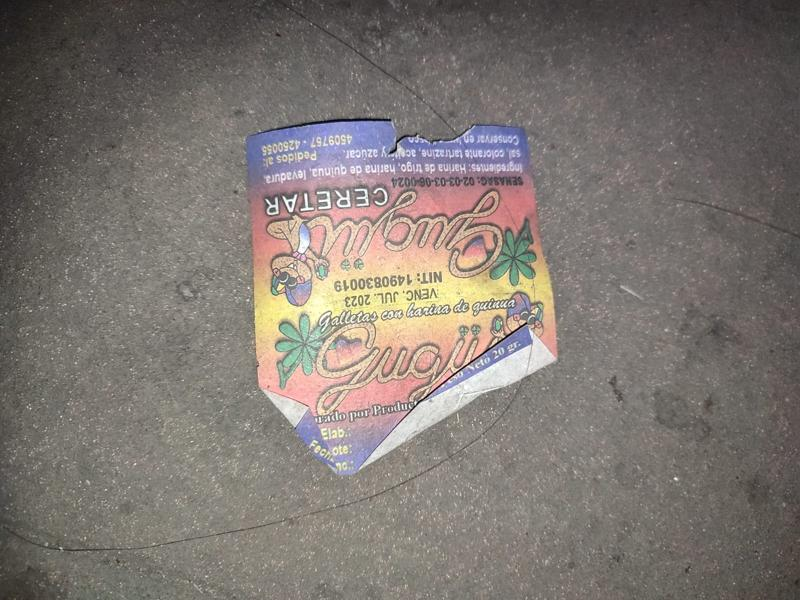papel: (244, 118, 560, 479)
